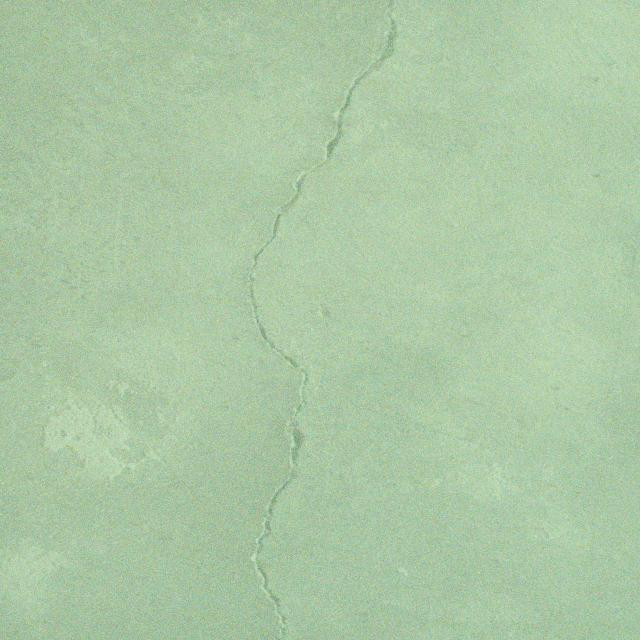crack: (247, 0, 399, 640)
